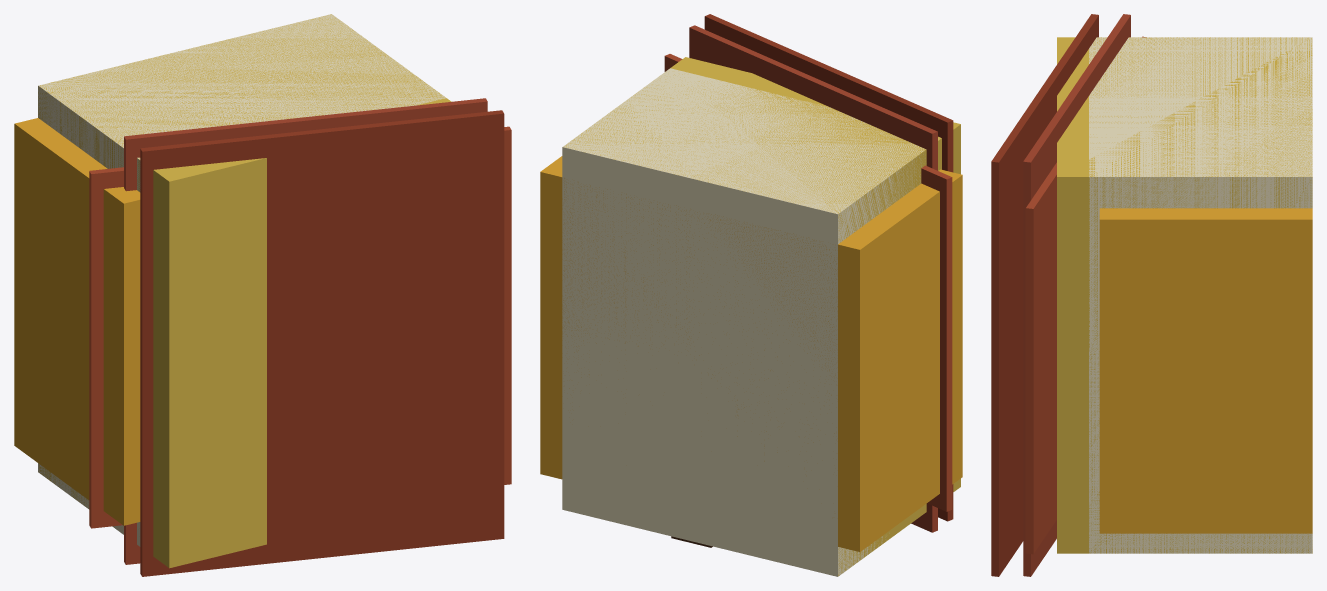
The model's file is entorno_casas.obj.
3 renders of one model, left to right at view 1: azimuth 30°, elevation 25°; view 2: azimuth 150°, elevation 25°; view 3: azimuth 270°, elevation 25°, orthographic. The views are drawn at different scales.
Parts seen in each view (by area): view 1: Export_Fondo; view 2: Export_Fondo; view 3: Export_Fondo.
Part boxes in pixels (bbox=[...]): Export_Fondo: bbox=[14, 14, 511, 576]; Export_Fondo: bbox=[540, 14, 962, 576]; Export_Fondo: bbox=[991, 14, 1312, 576].
Bounding box in the file's own units: 7.65 × 8.58 × 6.03.
